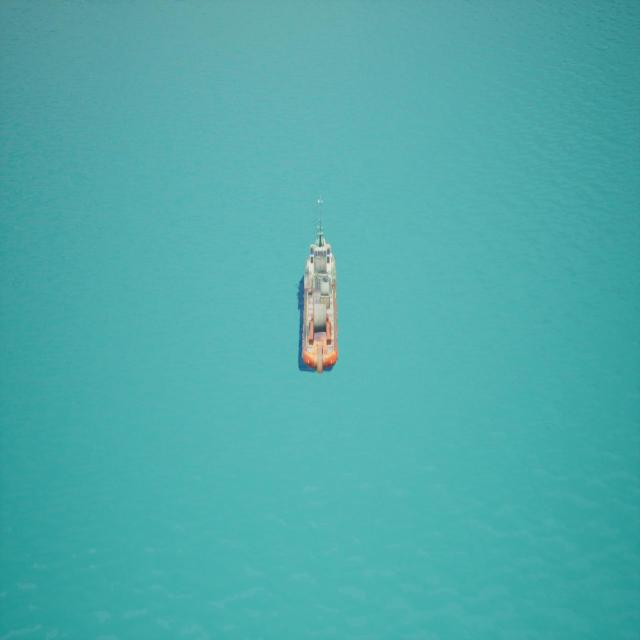tug boat: (296, 191, 341, 376)
